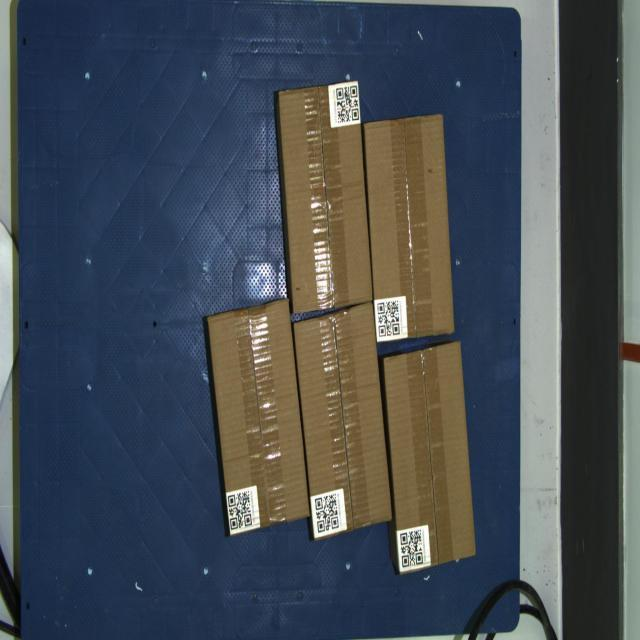box: (207, 299, 310, 537), (293, 303, 392, 541), (278, 80, 373, 314), (383, 340, 477, 576), (365, 113, 455, 343)
